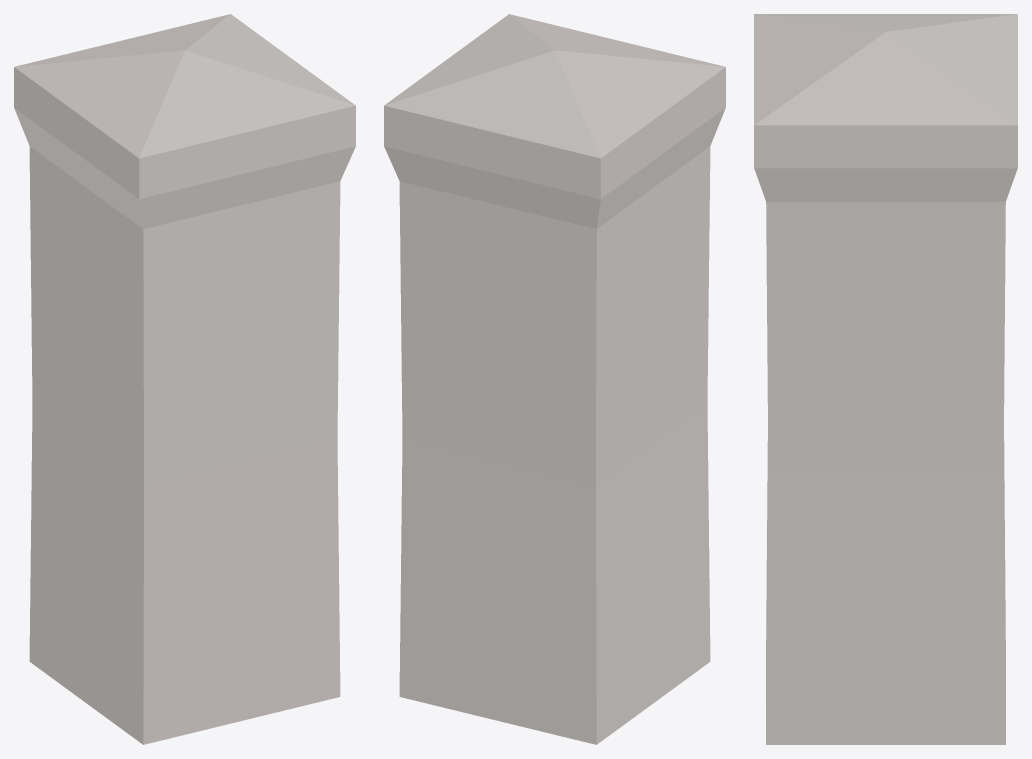
The model's file is fence-stone-tower.glb.
3 views of the same model, side by side, from view 1: azimuth 30°, elevation 25°; view 2: azimuth 150°, elevation 25°; view 3: azimuth 270°, elevation 25° (orthographic). The views are drawn at different scales.
Visible parts, largest first — view 1: fence-stone-tower; view 2: fence-stone-tower; view 3: fence-stone-tower.
Boxes of the visible parts, x1=… form: fence-stone-tower: x1=14, y1=14, x2=355, y2=744; fence-stone-tower: x1=384, y1=14, x2=725, y2=744; fence-stone-tower: x1=754, y1=14, x2=1017, y2=744.
Bounding box in the file's own units: 0.66 × 1.83 × 0.66.
Materials: 1 (1 with a texture image).
